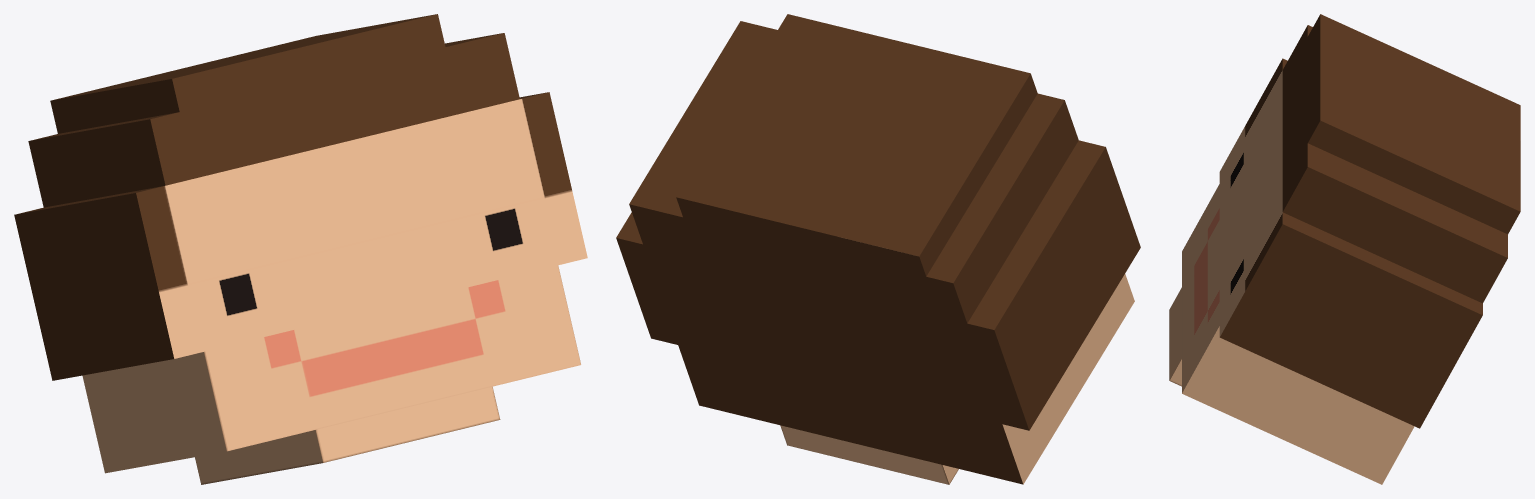
File: head_4.glb
3 renders of one model, left to right at view 1: azimuth 30°, elevation 25°; view 2: azimuth 150°, elevation 25°; view 3: azimuth 270°, elevation 25°, orthographic. The views are drawn at different scales.
Parts seen in each view (by area): view 1: head; view 2: head; view 3: head.
Boxes of the visible parts, x1,y1,x2,y2 form: head: (14, 14, 587, 484); head: (616, 14, 1140, 484); head: (1169, 14, 1520, 484).
Bounding box in the file's own units: 0.0901 × 0.0921 × 0.0807.
Materials: 1 (1 with a texture image).
